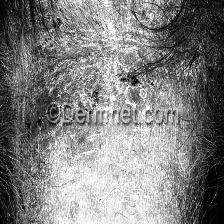Non-Cancerous Skin Condition: (23, 14, 204, 176)
